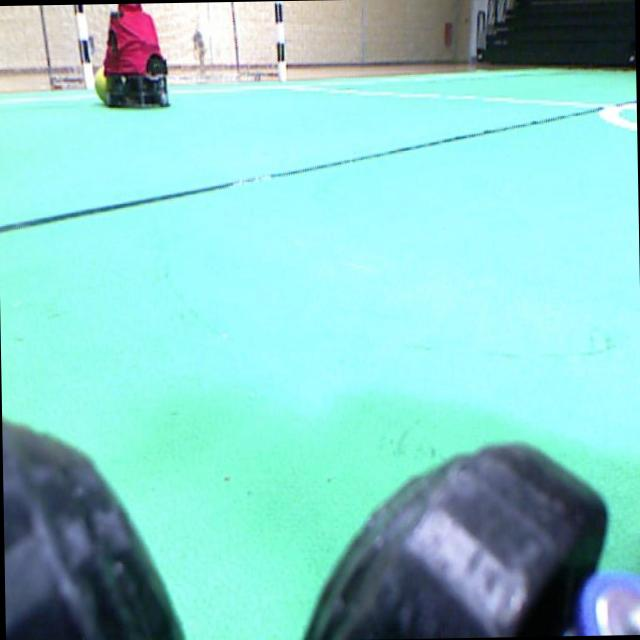ball: (94, 65, 106, 102)
